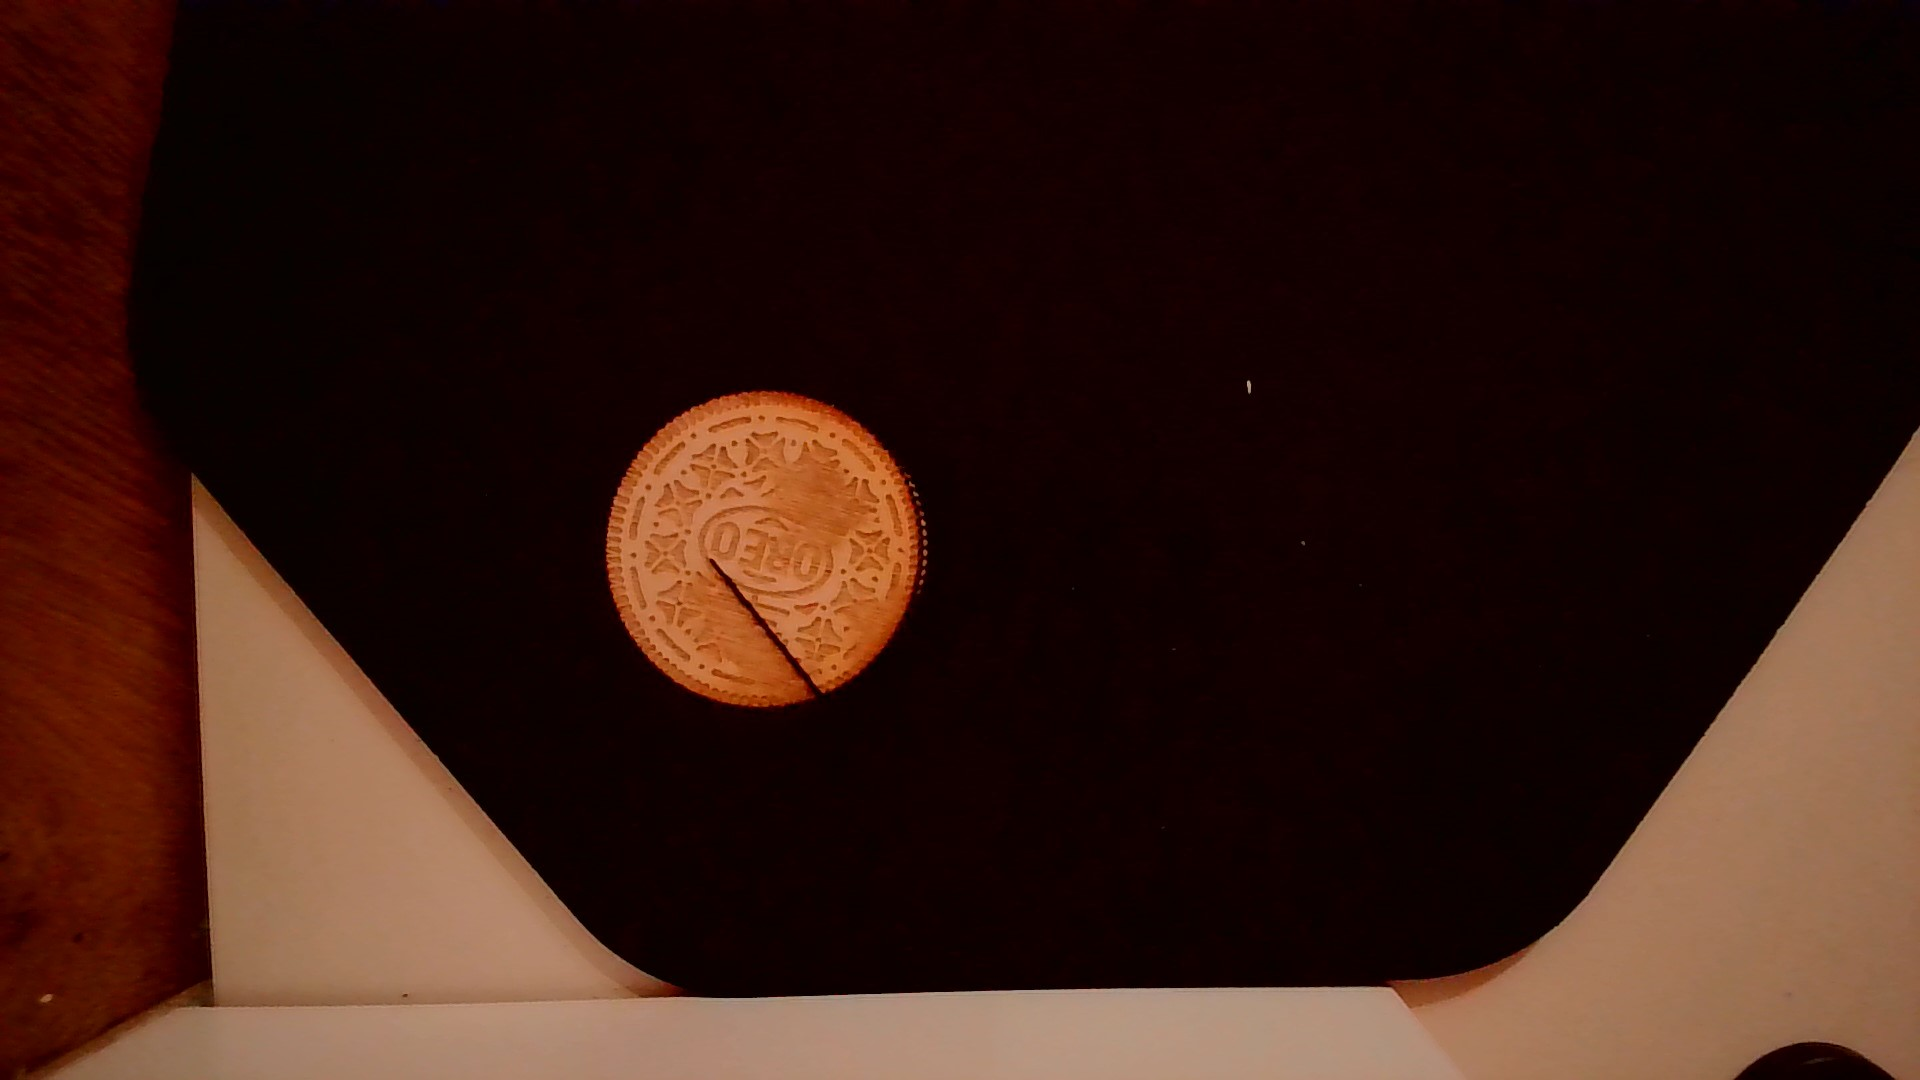Effacé: (764, 442, 862, 535), (700, 630, 786, 705), (839, 587, 901, 669)
Fissure: (696, 555, 831, 709)
Oréo: (583, 380, 942, 712)
